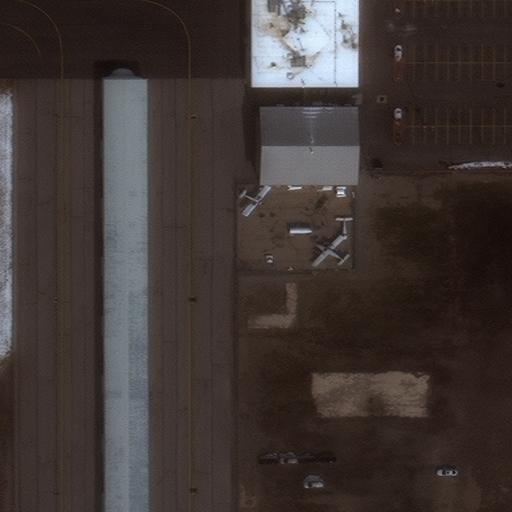Small Civil Transport: (310, 233, 346, 264), (239, 187, 271, 217)
